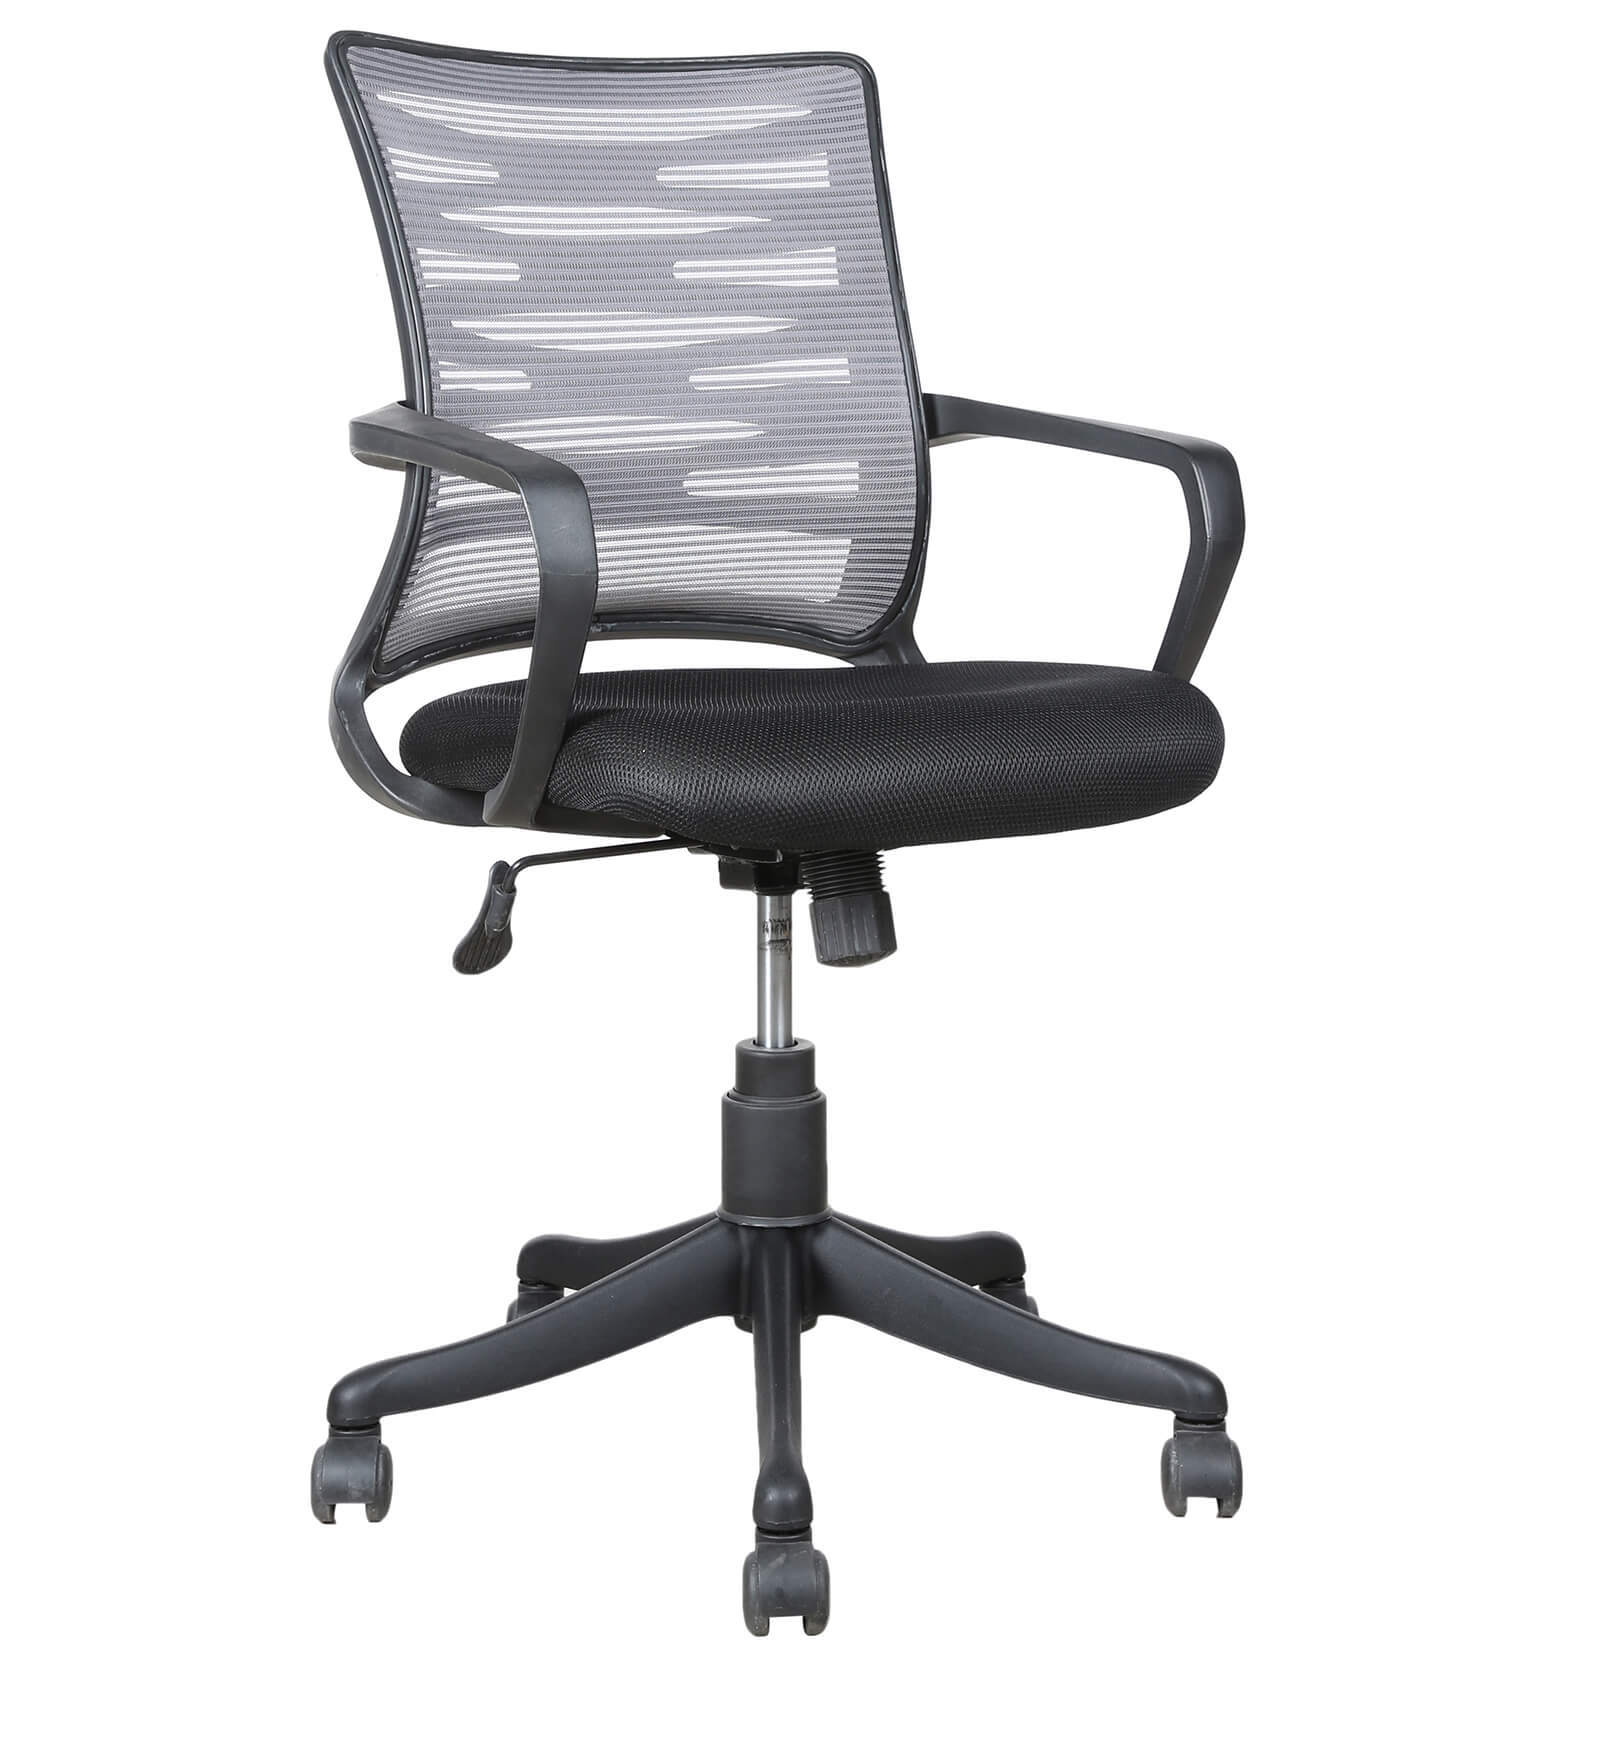Astec Ergonomic Chair in Grey Colour by Parin: (218, 8, 1298, 1712)
